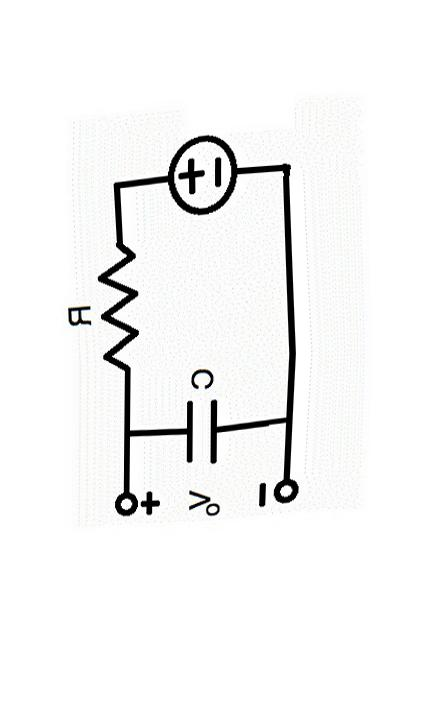Battery: (148, 113, 248, 228)
